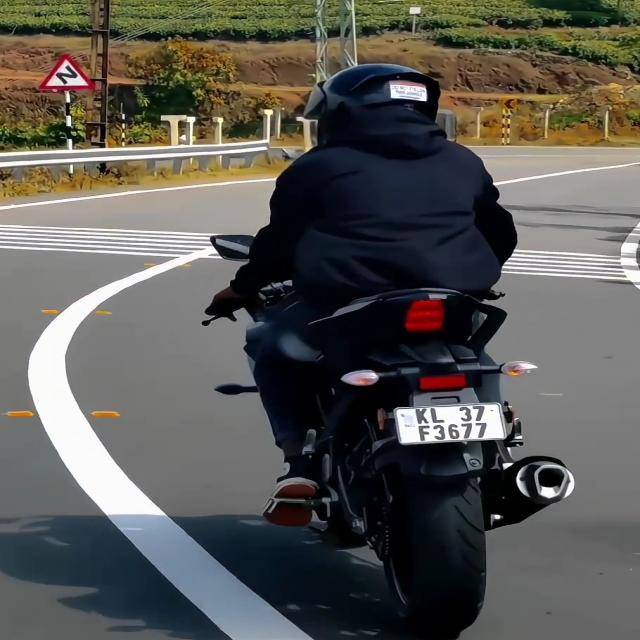Numberplate: (389, 404, 512, 441)
bike: (157, 194, 622, 625)
helmet: (268, 34, 480, 128)
